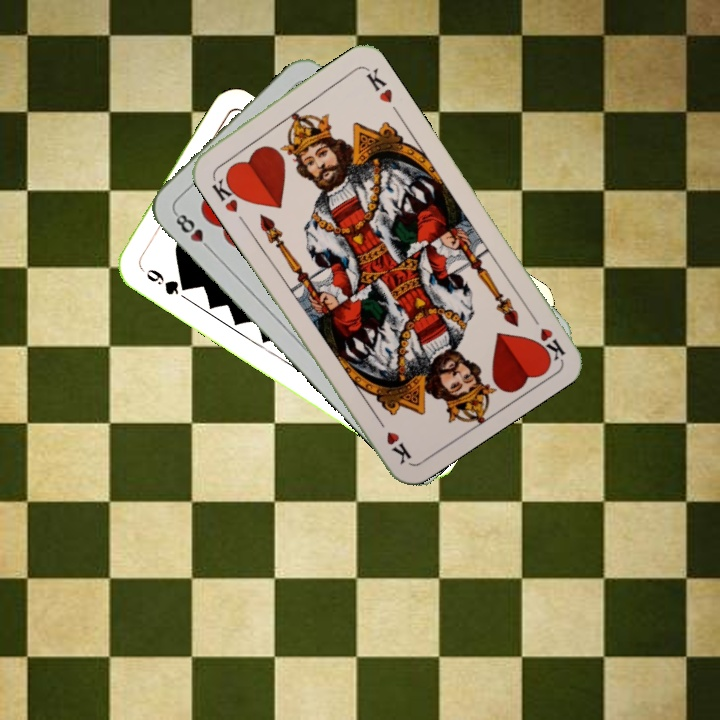G9: (142, 264, 192, 298)
H8: (170, 208, 216, 255)
HK: (525, 307, 568, 364), (208, 170, 247, 215)
